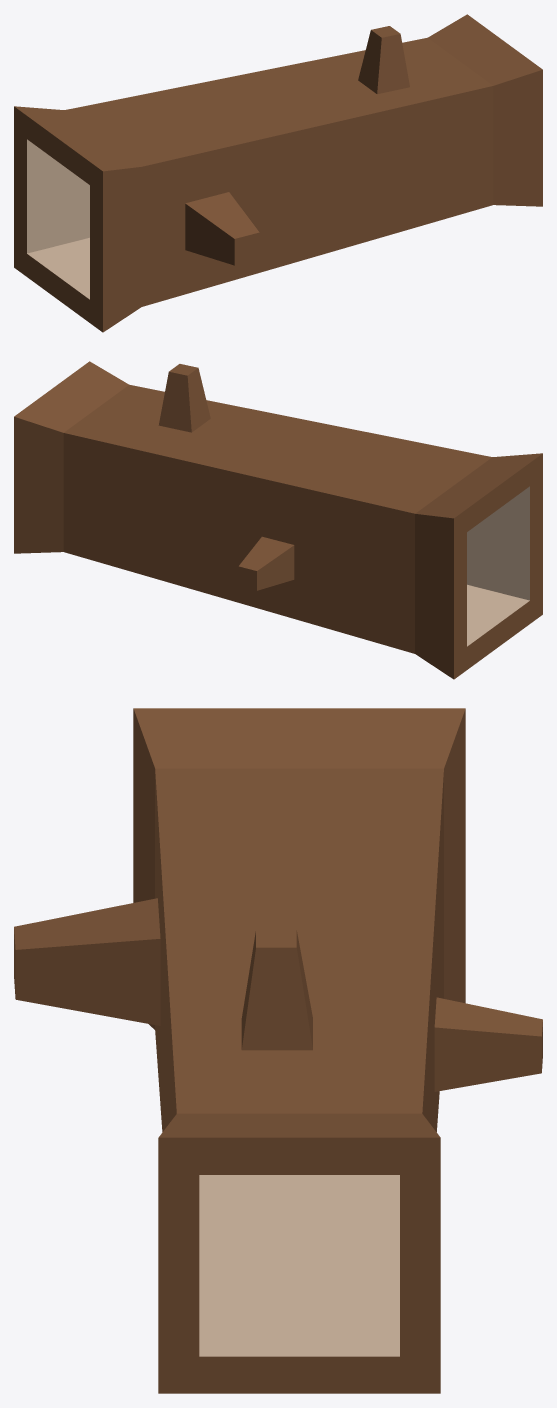
The model's file is log_large.glb.
The picture shows the model from 3 angles, top to bottom: view 1: azimuth 30°, elevation 25°; view 2: azimuth 150°, elevation 25°; view 3: azimuth 270°, elevation 25°; orthographic projection. The views are drawn at different scales.
Parts seen in each view (by area): view 1: log_large; view 2: log_large; view 3: log_large.
Boxes of the visible parts, x1,y1,x2,y2 form: log_large: [14, 14, 542, 332]; log_large: [14, 361, 542, 679]; log_large: [14, 708, 542, 1393].
Size of the model in its own units: 1 by 0.4167 by 0.5493.
